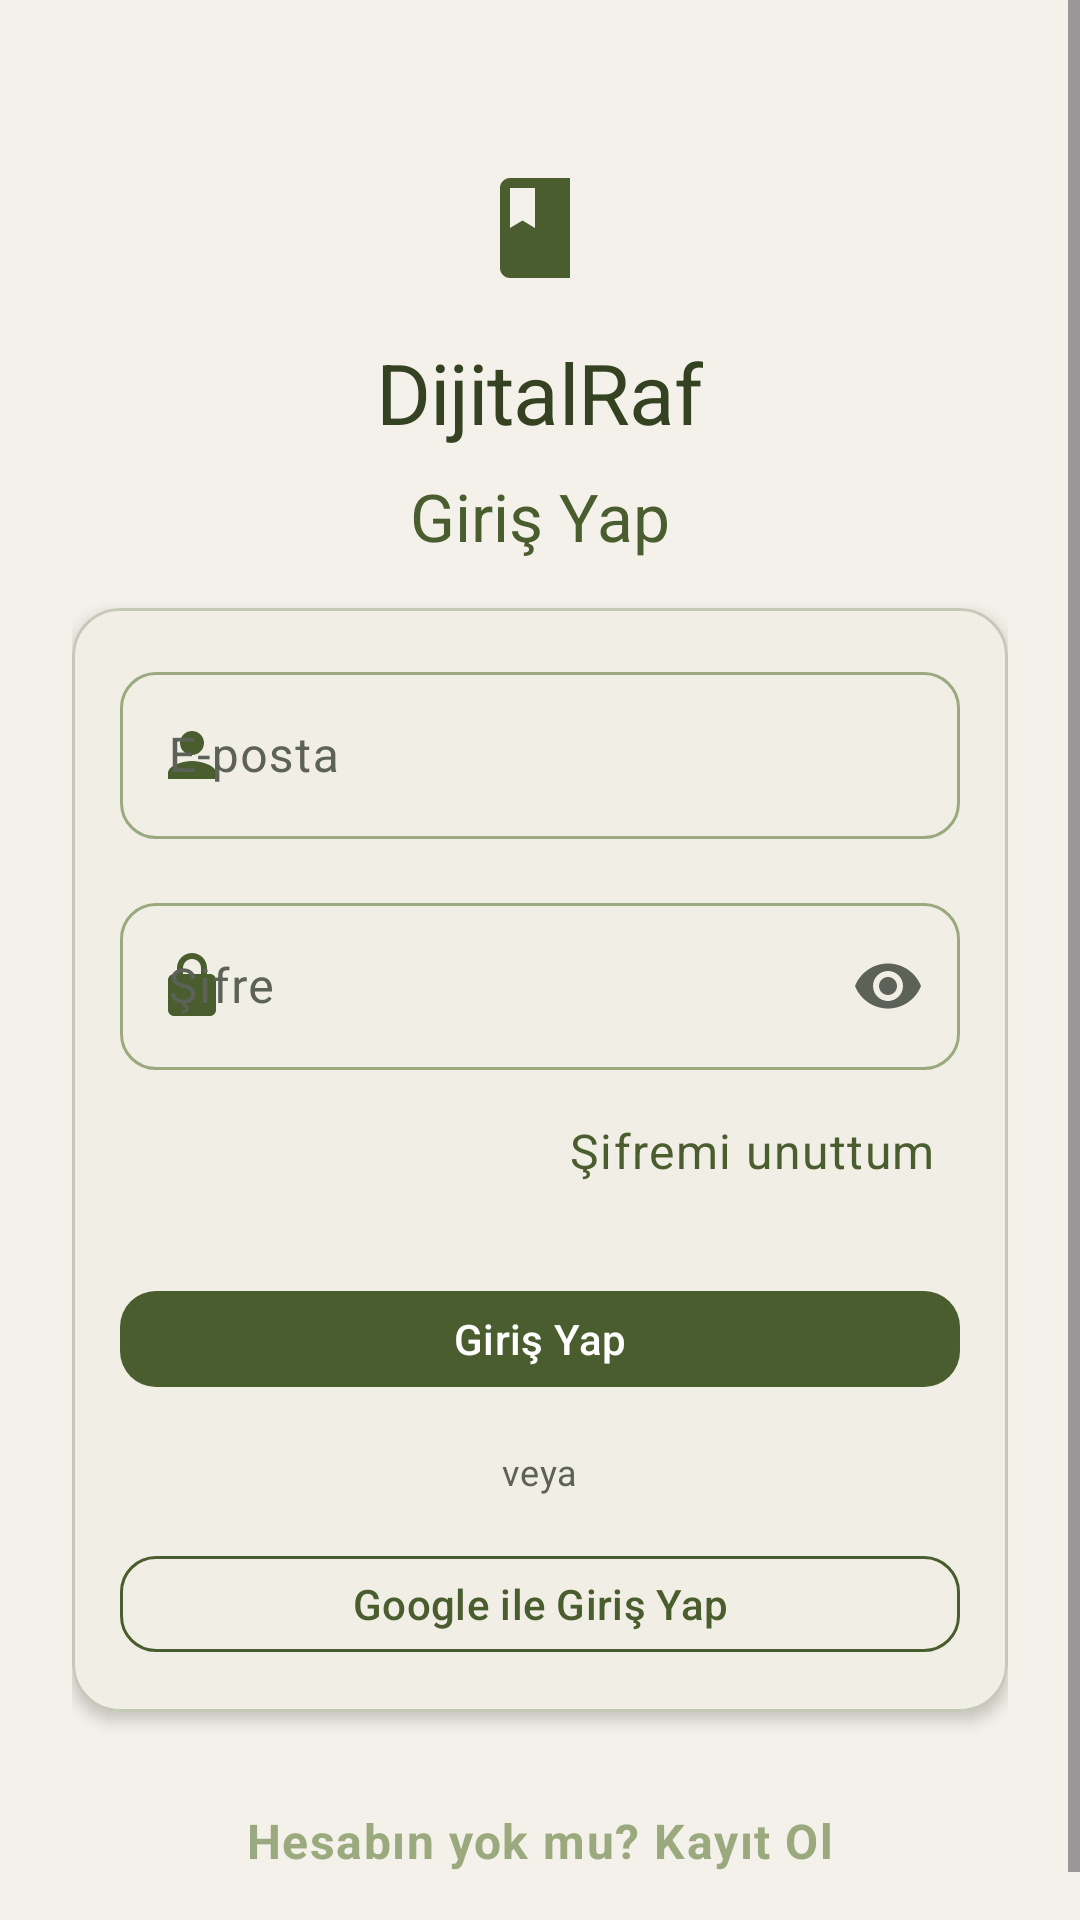

Point at icon controls on the screen. Image size 1080 × 1920, points as point (x, y).
book: point (535, 228)
